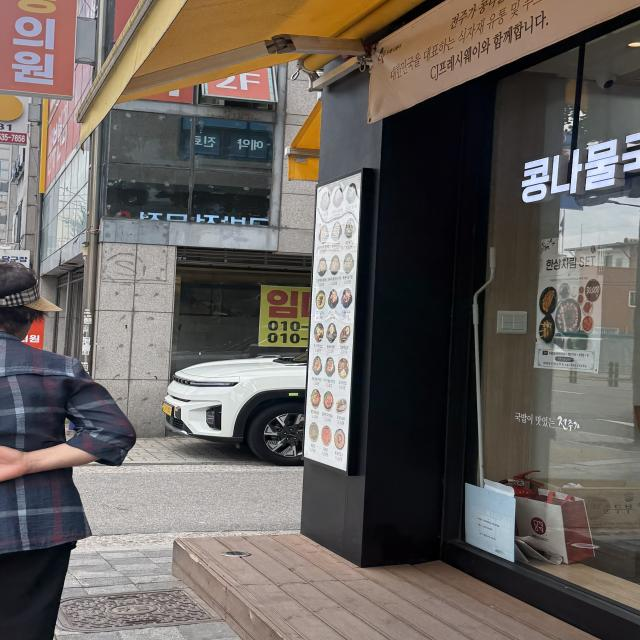car: (146, 322, 629, 475)
